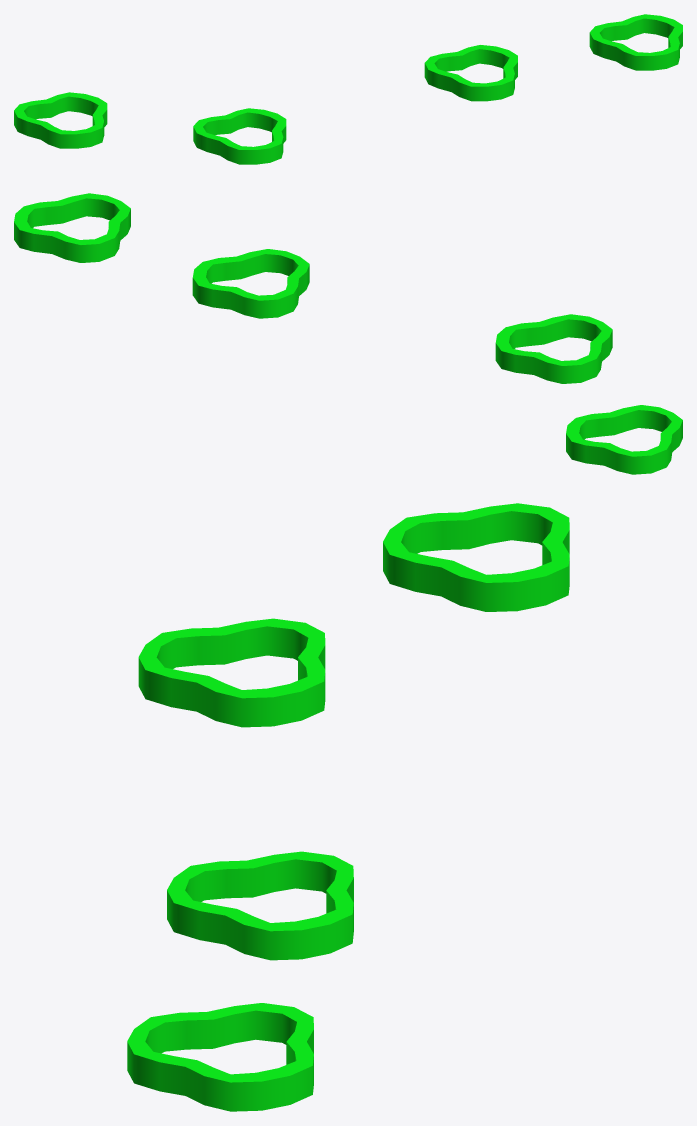
Rendered from pepperoni.glb.
3 renders of one model, top to bottom at view 1: azimuth 30°, elevation 25°; view 2: azimuth 150°, elevation 25°; view 3: azimuth 270°, elevation 25°, orthographic. The views are drawn at different scales.
Visible parts, largest first — view 1: pPipe1_BellPepperMat_0.003, pPipe1_BellPepperMat_0, pPipe1_BellPepperMat_0.001, pPipe1_BellPepperMat_0.002; view 2: pPipe1_BellPepperMat_0.001, pPipe1_BellPepperMat_0, pPipe1_BellPepperMat_0.002, pPipe1_BellPepperMat_0.003; view 3: pPipe1_BellPepperMat_0, pPipe1_BellPepperMat_0.003, pPipe1_BellPepperMat_0.001, pPipe1_BellPepperMat_0.002.
Part boxes in pixels (left/top/right/bottom): pPipe1_BellPepperMat_0.003: left=14, top=92, right=107, bottom=148; pPipe1_BellPepperMat_0: left=193, top=108, right=286, bottom=164; pPipe1_BellPepperMat_0.001: left=424, top=45, right=517, bottom=101; pPipe1_BellPepperMat_0.002: left=589, top=14, right=682, bottom=70; pPipe1_BellPepperMat_0.001: left=192, top=249, right=309, bottom=318; pPipe1_BellPepperMat_0: left=495, top=314, right=612, bottom=383; pPipe1_BellPepperMat_0.002: left=14, top=193, right=130, bottom=262; pPipe1_BellPepperMat_0.003: left=566, top=405, right=682, bottom=474; pPipe1_BellPepperMat_0: left=138, top=618, right=325, bottom=727; pPipe1_BellPepperMat_0.003: left=383, top=503, right=569, bottom=611; pPipe1_BellPepperMat_0.001: left=167, top=851, right=353, bottom=960; pPipe1_BellPepperMat_0.002: left=127, top=1003, right=313, bottom=1111.
Bounding box in the file's own units: 1.11 × 0.026 × 0.3583.
